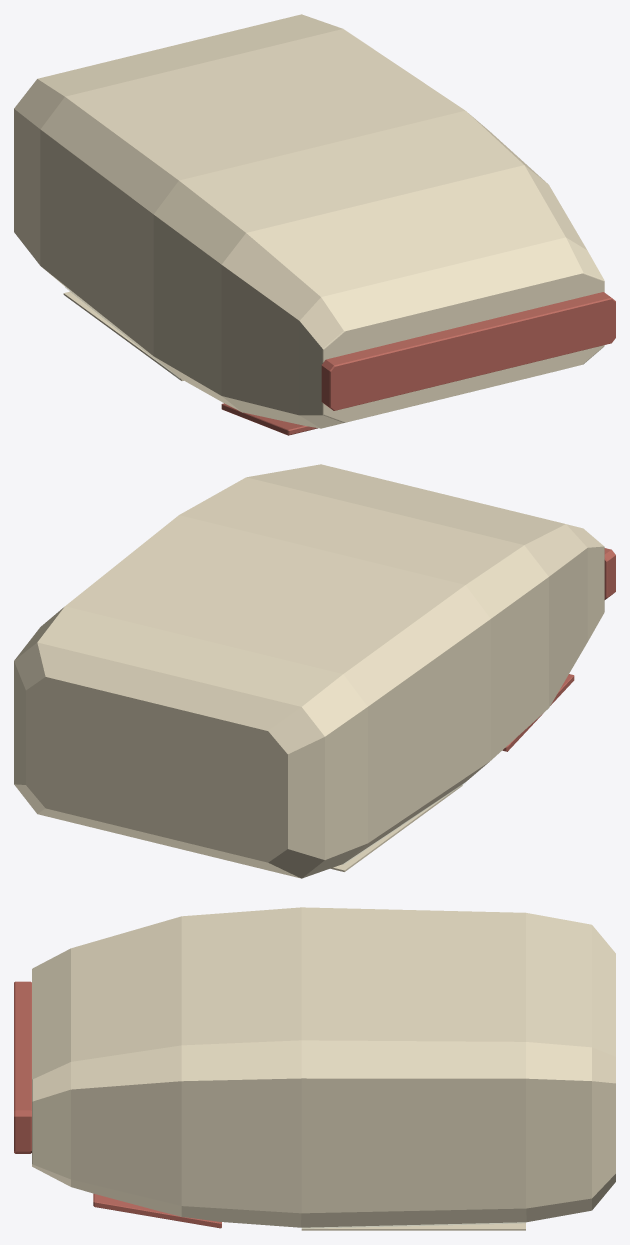
The model's file is red_kidney_beans.glb.
3 views of the same model, one above another, from view 1: azimuth 30°, elevation 25°; view 2: azimuth 150°, elevation 25°; view 3: azimuth 270°, elevation 25° (orthographic). The views are drawn at different scales.
Visible parts, largest first — view 1: red_kidney_beans; view 2: red_kidney_beans; view 3: red_kidney_beans.
Part boxes in pixels (box(x1,y1,x2,y2)): red_kidney_beans: box(14, 14, 615, 435); red_kidney_beans: box(14, 464, 615, 878); red_kidney_beans: box(14, 907, 615, 1230).
Bounding box in the file's own units: 0.1236 × 0.0706 × 0.201.
